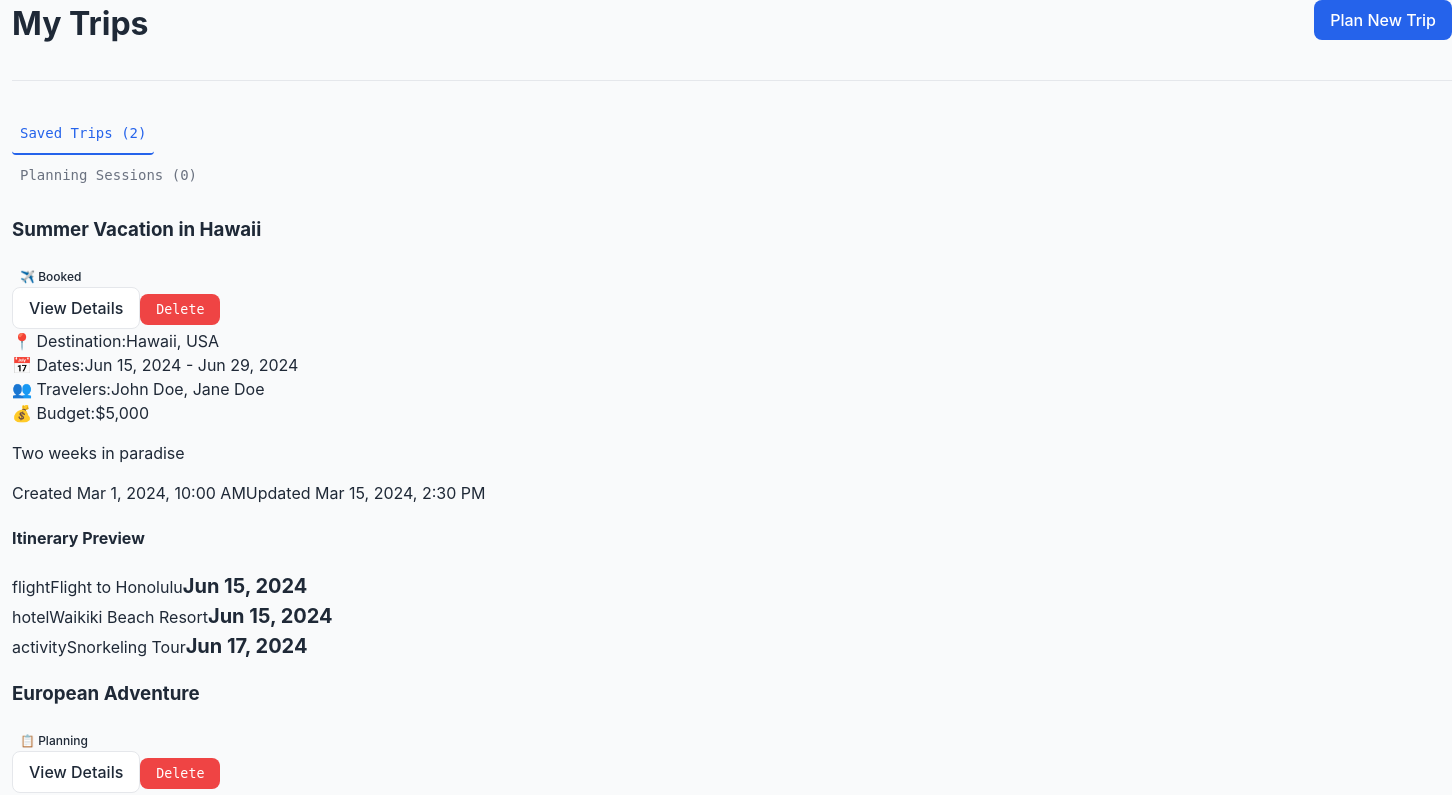
Test case: Trips Page › Trip Deletion › should delete trip when confirmed
Expected: the heading "Summer Vacation in Hawaii" is shown, [12,218,261,241]
Click the button "Delete" below "booked" at point(180, 309), box [140,294,220,324]
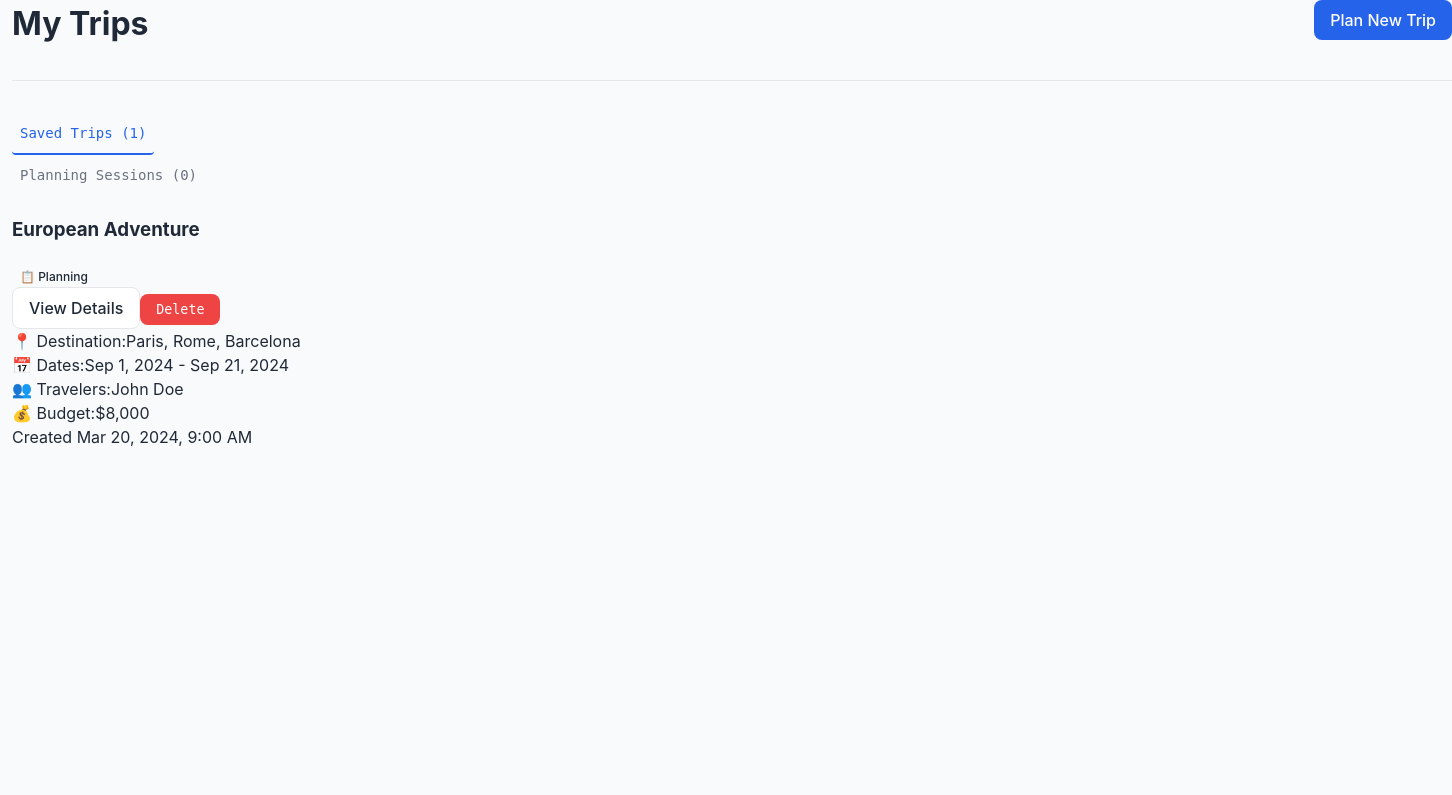
Expected: the heading "European Adventure" is shown, [12,218,200,241]
Expected: the heading "Summer Vacation in Hawaii" is gone
